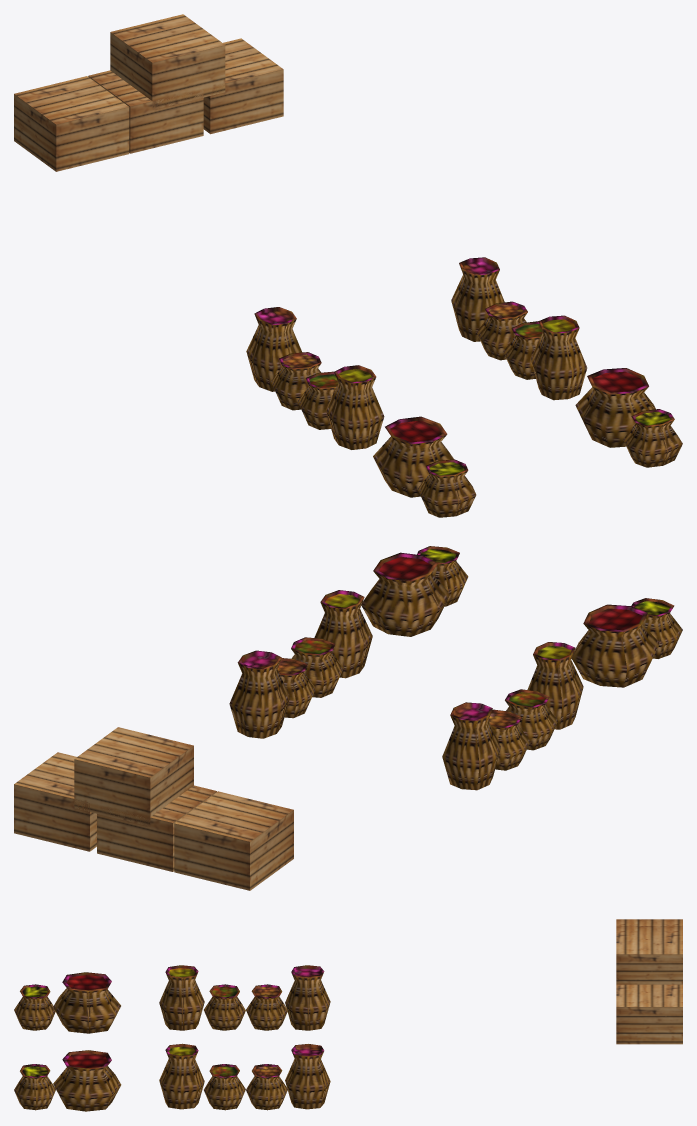
File: viet_ship_merchant_prop.dae
The picture shows the model from 3 angles, top to bottom: view 1: azimuth 30°, elevation 25°; view 2: azimuth 150°, elevation 25°; view 3: azimuth 270°, elevation 25°; orthographic projection. The views are drawn at different scales.
Visible parts, largest first — view 1: raft_merc; view 2: raft_merc; view 3: raft_merc.
Boxes of the visible parts, bbox=[...] form: raft_merc: bbox=[14, 14, 682, 517]; raft_merc: bbox=[14, 546, 682, 890]; raft_merc: bbox=[14, 919, 682, 1111].
Size of the model in its own units: 5.38 by 14.55 by 3.02.
